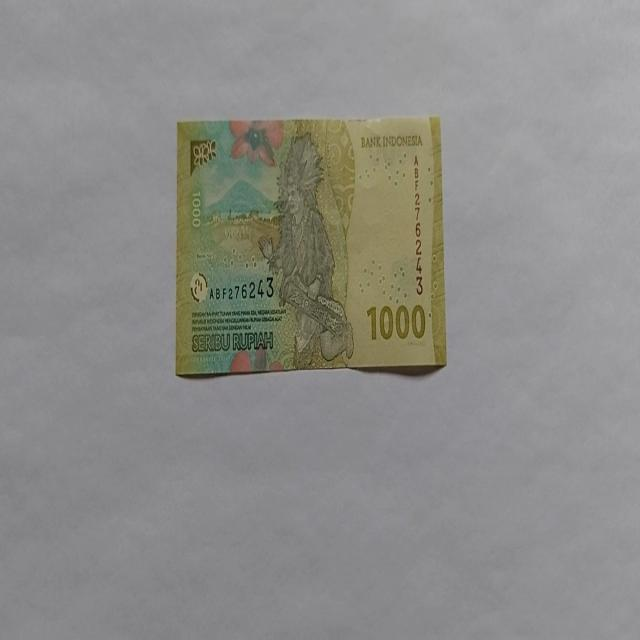seribu rupiah kertas: (175, 115, 448, 377)
